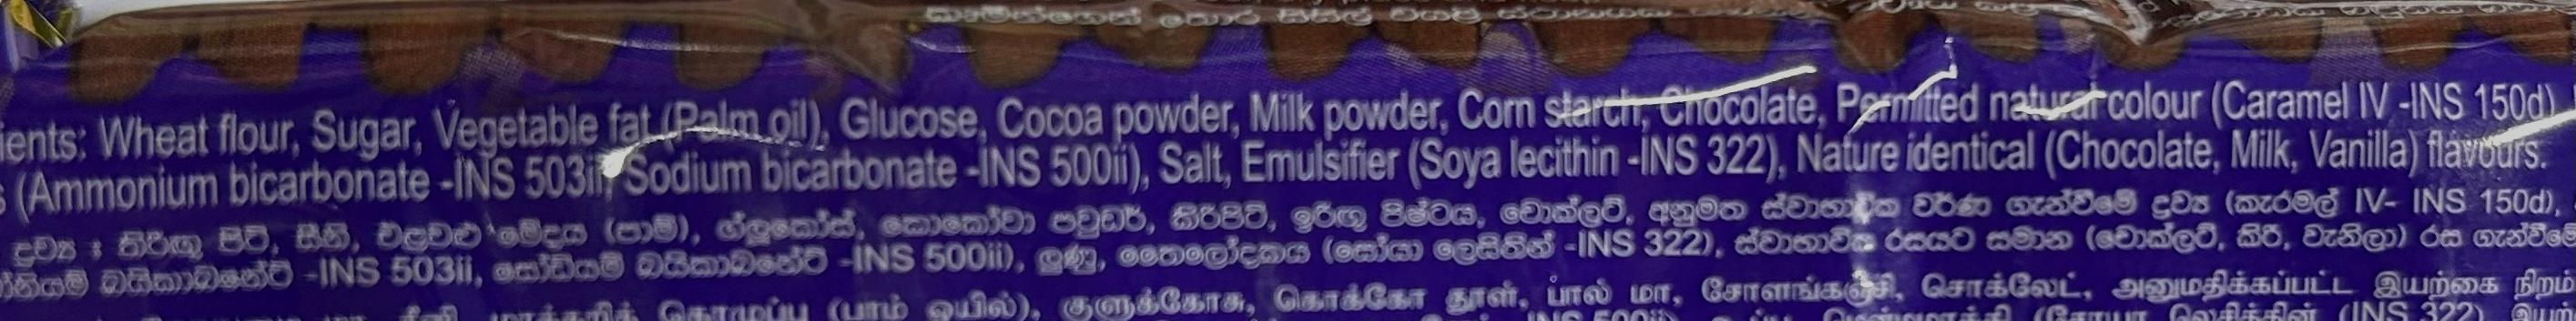ingredients: (5, 66, 2568, 221)
